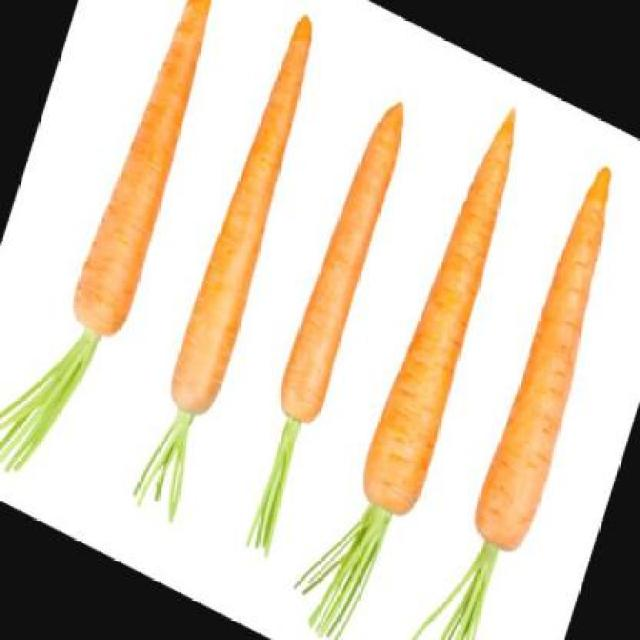carrot: (352, 93, 537, 522), (163, 5, 335, 422), (466, 155, 640, 559), (65, 0, 234, 346), (271, 86, 417, 431)
